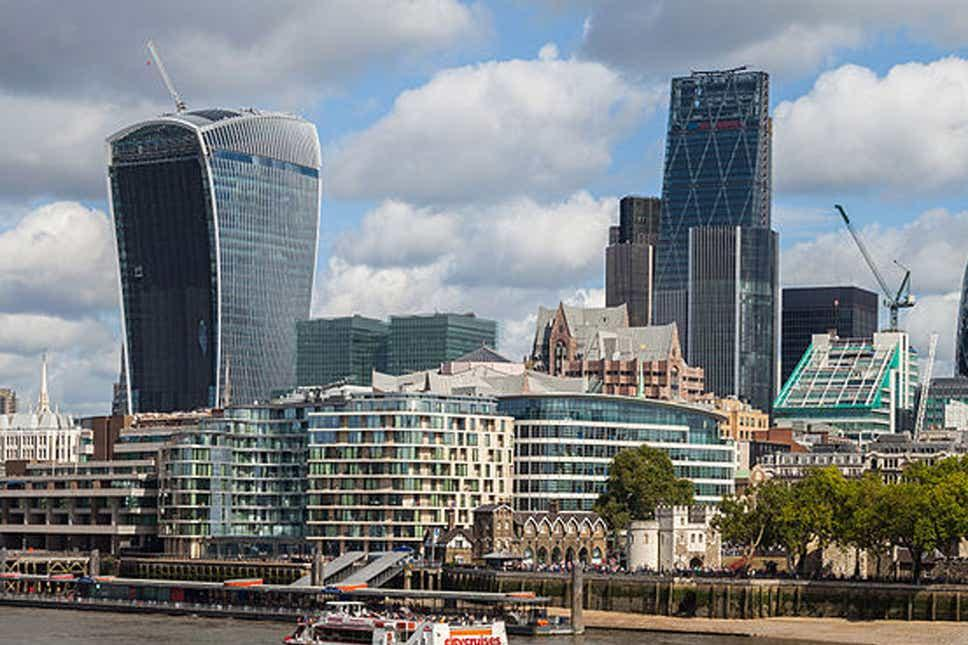Walkie talkie: (101, 99, 326, 400)
